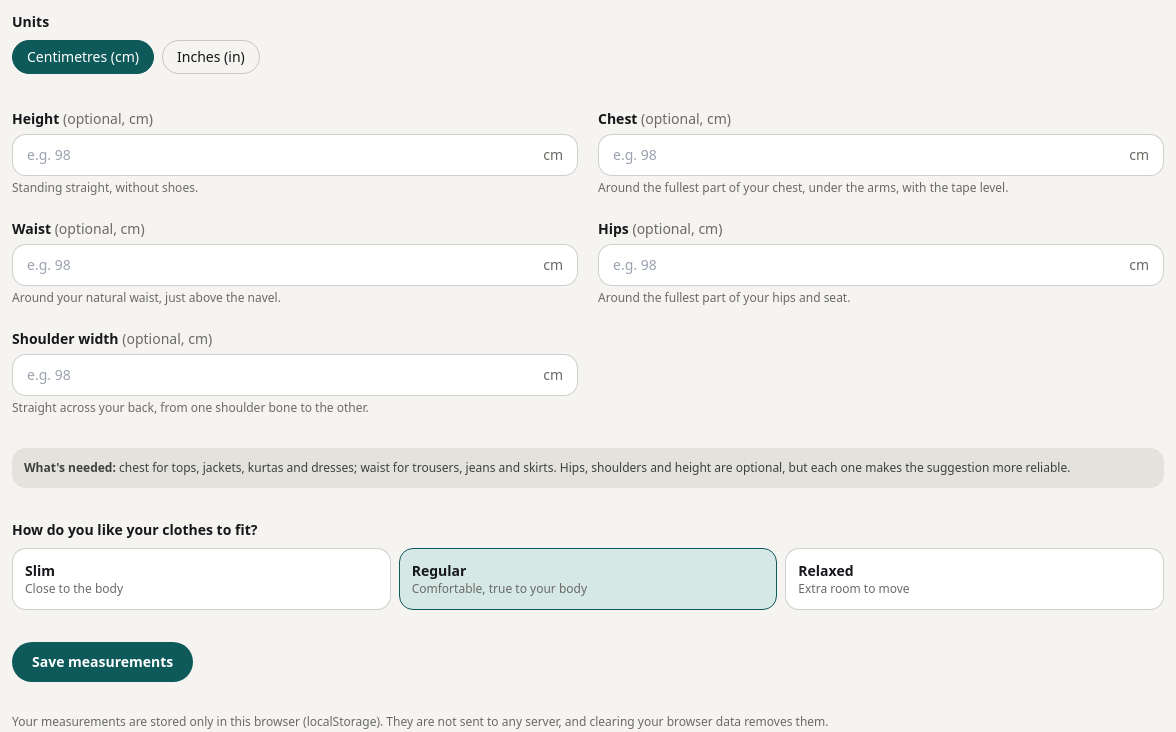
Test: measurement profile form › saves measurements in cm and a fit preference to localStorage
Type "175" into the field labelled "Height (optional, cm)".
click(278, 155); type("175")  # box [13,135,543,175]
Type "98" into the field labelled "Chest (optional, cm)".
click(864, 155); type("98")  # box [599,135,1129,175]
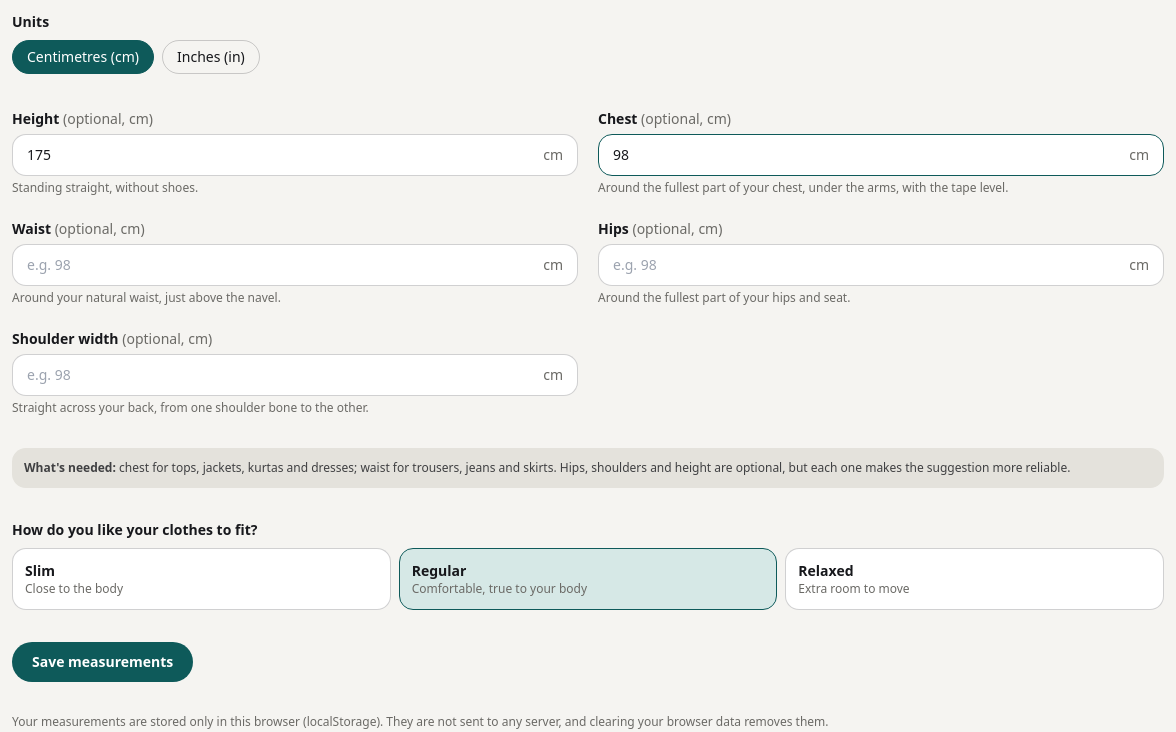
Type "82" into the field labelled "Waist (optional, cm)".
click(278, 265); type("82")  # box [13,245,543,285]
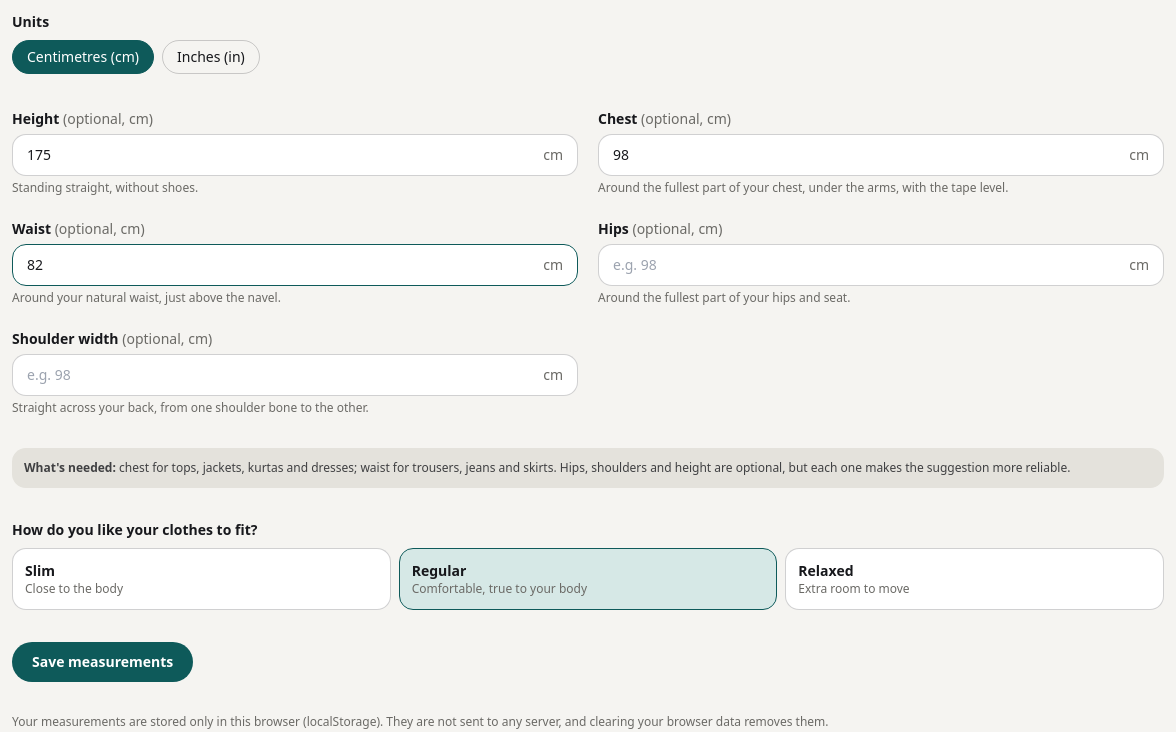
Type "98" into the field labelled "Hips (optional, cm)".
click(864, 265); type("98")  # box [599,245,1129,285]
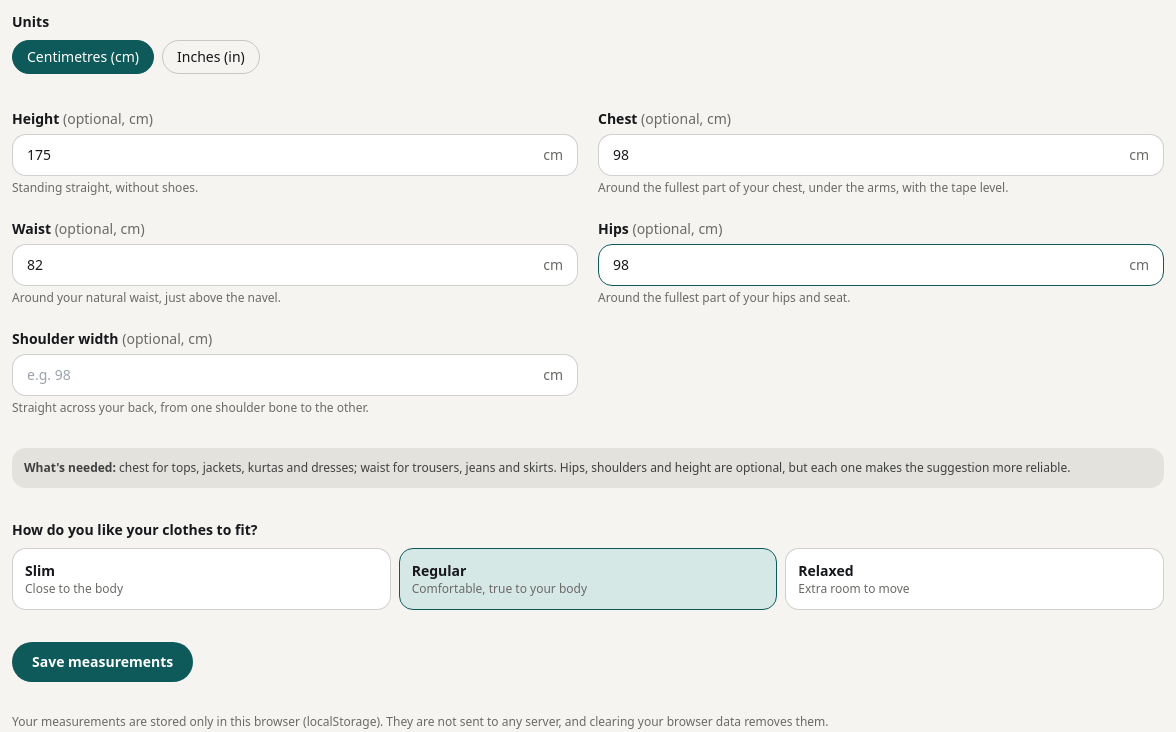
Type "44.5" into the field labelled "Shoulder width (optional, cm)".
click(278, 375); type("44.5")  # box [13,355,543,395]
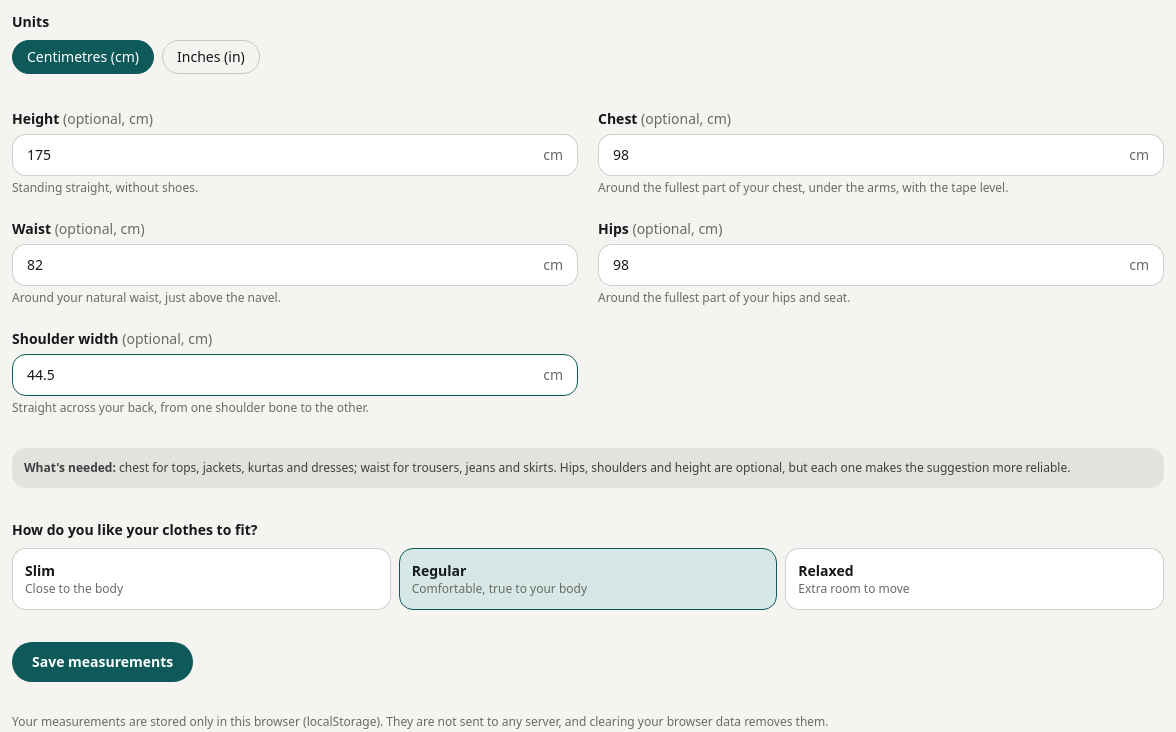
Click the button "Relaxed Extra room to move".
click(826, 570)  # box [785,548,1164,610]
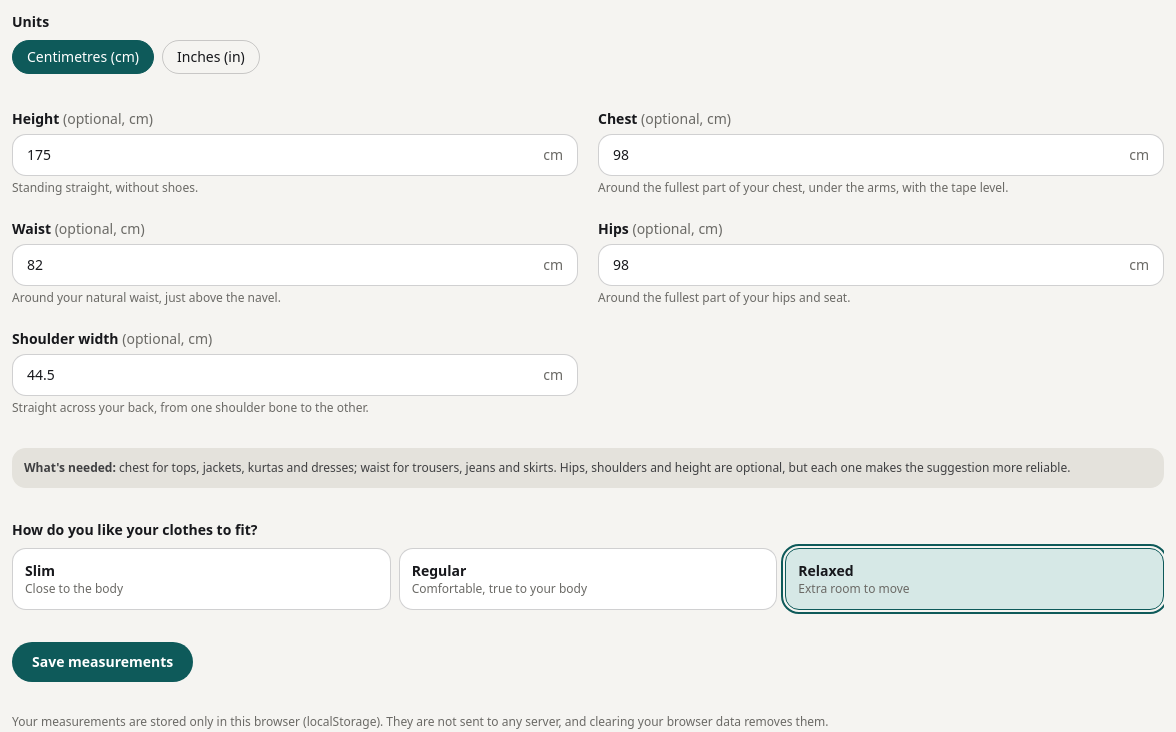
Click the button "Save measurements".
click(103, 662)  # box [12,642,193,682]
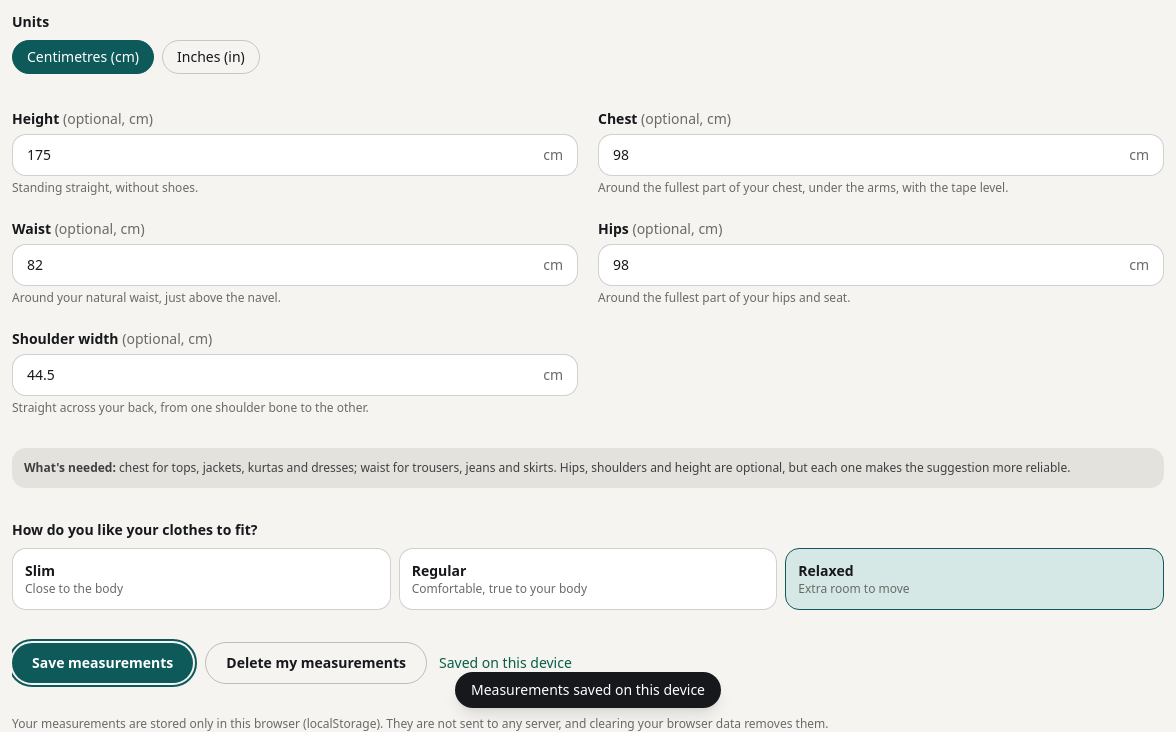
Check: the text "Saved on this device" is shown, box [439,653,572,673]
